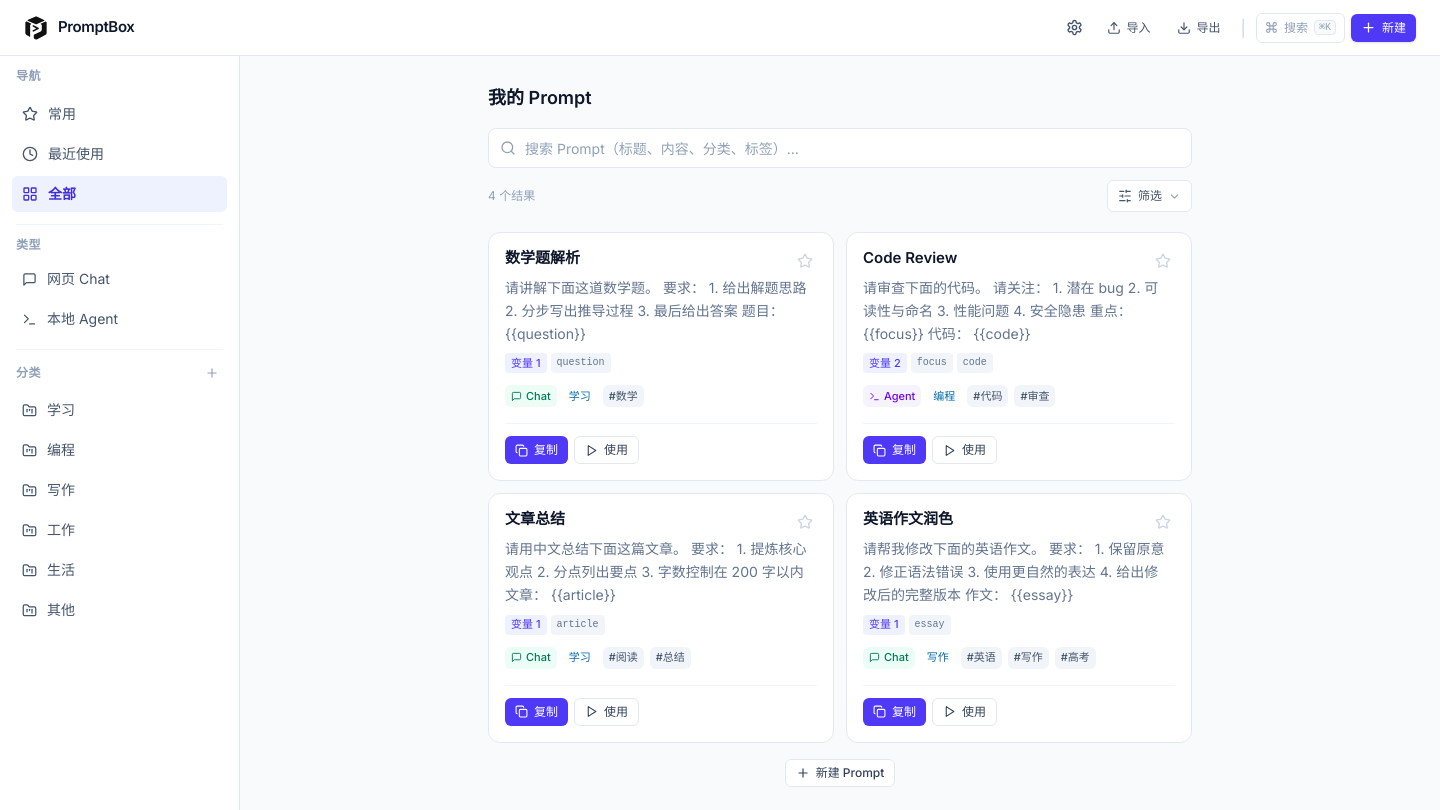
Test: App integration › filters by tag from the small menu next to the search bar
The width and height of the screenshot is (1440, 810).
Step 1. Click the button named "筛选标签" → (1150, 196), box [1107,180,1192,212]
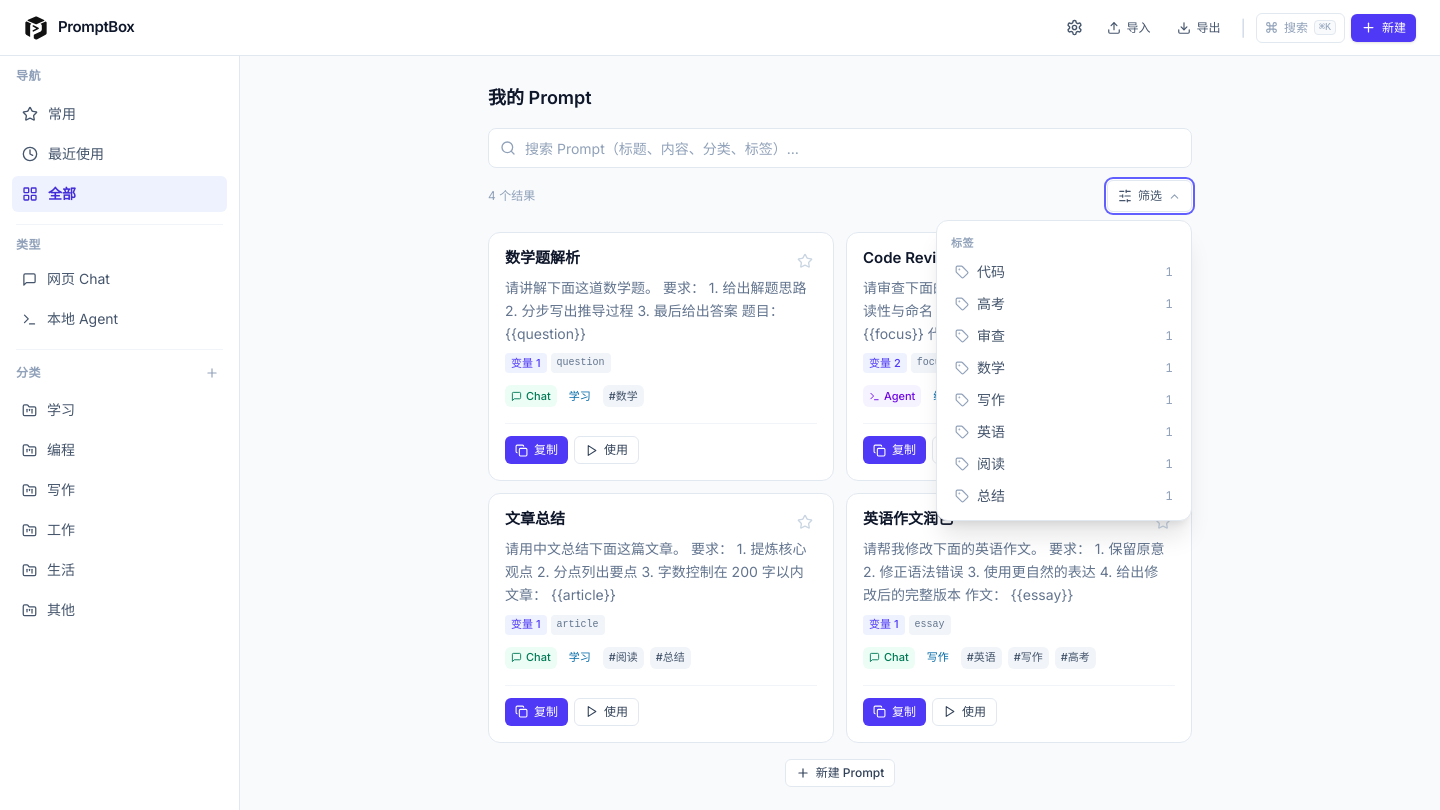
Step 2. Click the button "英语 1" → (1064, 432), box [945,416,1183,448]
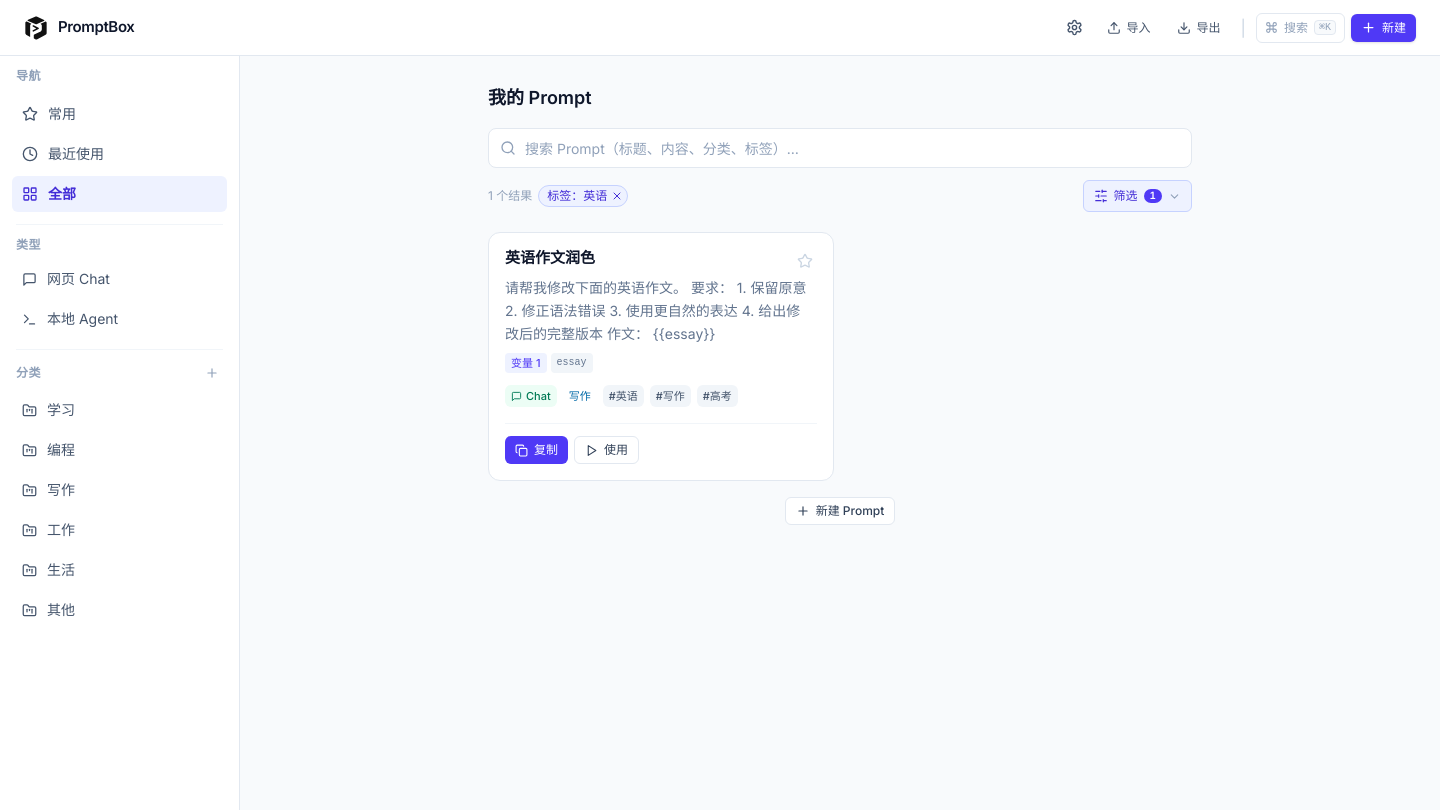
Expected: the button "英语作文润色" is shown, [503,247,597,270]
Expected: the button "Code Review" is gone
Step 3. Click the button named "清除标签筛选：英语" → (583, 196), box [538,185,628,207]
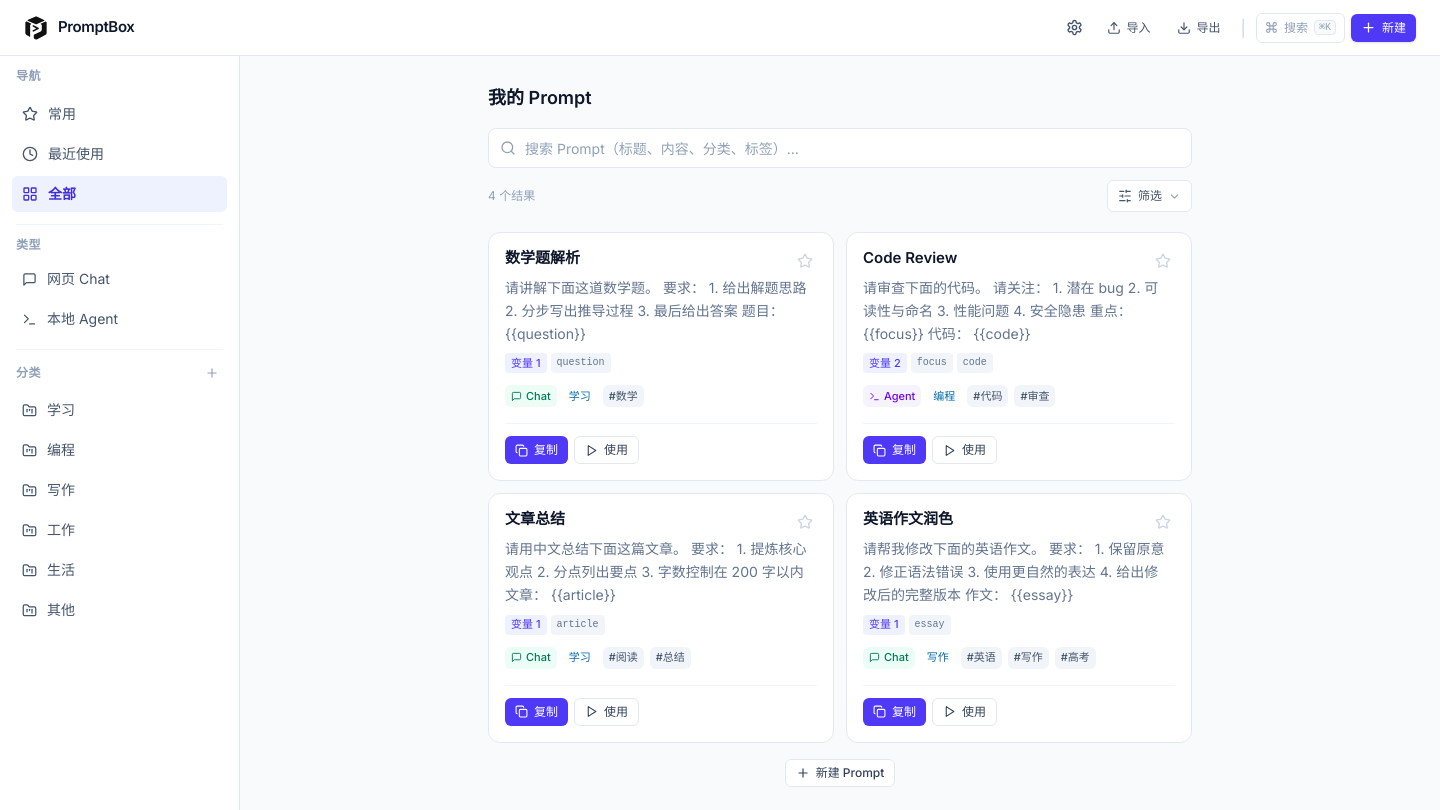
Expected: the button "Code Review" is shown, [861,247,959,270]
